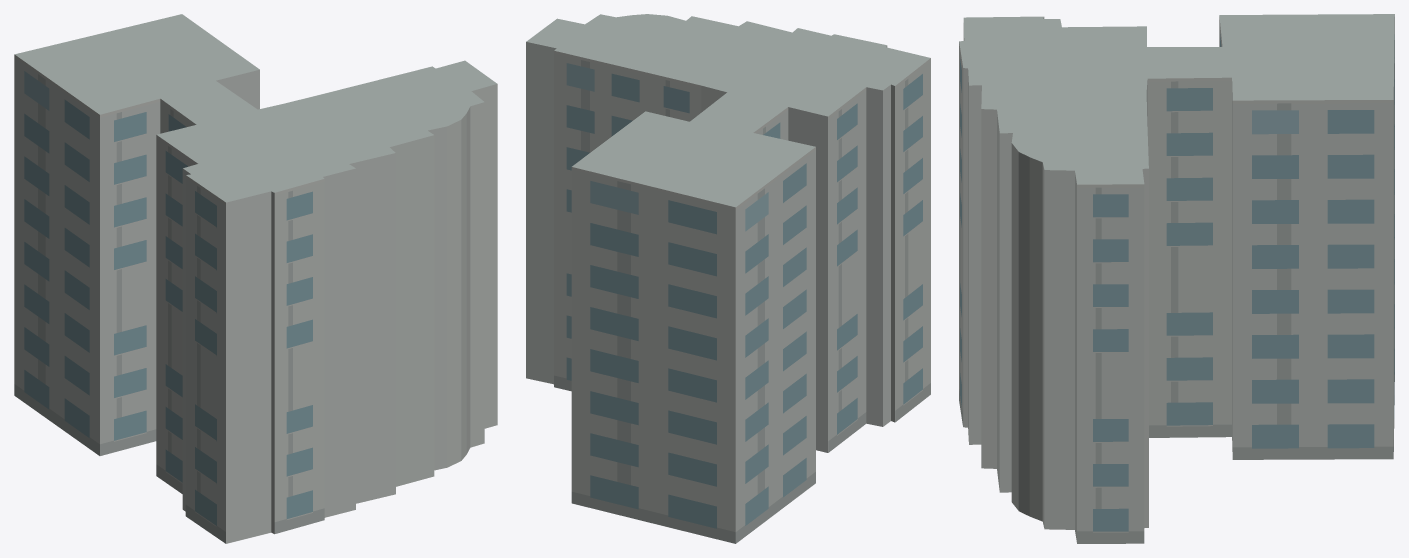
File: survey-upis-32770290.glb
The picture shows the model from 3 angles, left to right: view 1: azimuth 30°, elevation 25°; view 2: azimuth 150°, elevation 25°; view 3: azimuth 270°, elevation 25°; orthographic projection. The views are drawn at different scales.
Visible parts, largest first — view 1: survey-upis-32770290.tmp; view 2: survey-upis-32770290.tmp; view 3: survey-upis-32770290.tmp.
Boxes of the visible parts, box(x1,y1,x2,y2) form: survey-upis-32770290.tmp: box(14, 14, 497, 543); survey-upis-32770290.tmp: box(526, 14, 930, 543); survey-upis-32770290.tmp: box(959, 14, 1394, 543).
Size of the model in its own units: 28.52 by 28 by 30.78.
